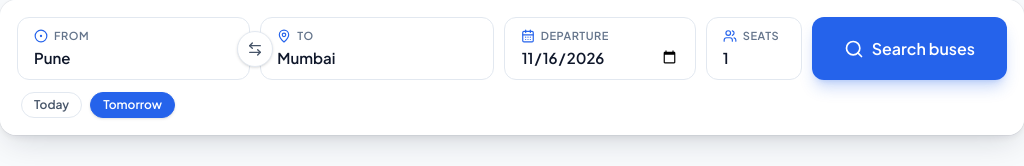
Test: SearchWidget › swaps source and destination
Click the button named "swap": (255,48) left=237, top=30, right=273, bottom=66
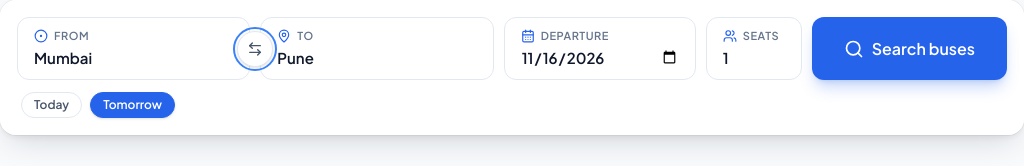
Expected: the field labelled "From" holds "Mumbai", left=34, top=44, right=233, bottom=69
Expected: the field labelled "To" holds "Pune", left=277, top=44, right=477, bottom=69
